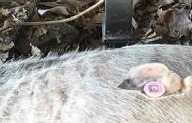text: (133, 76, 175, 103)
